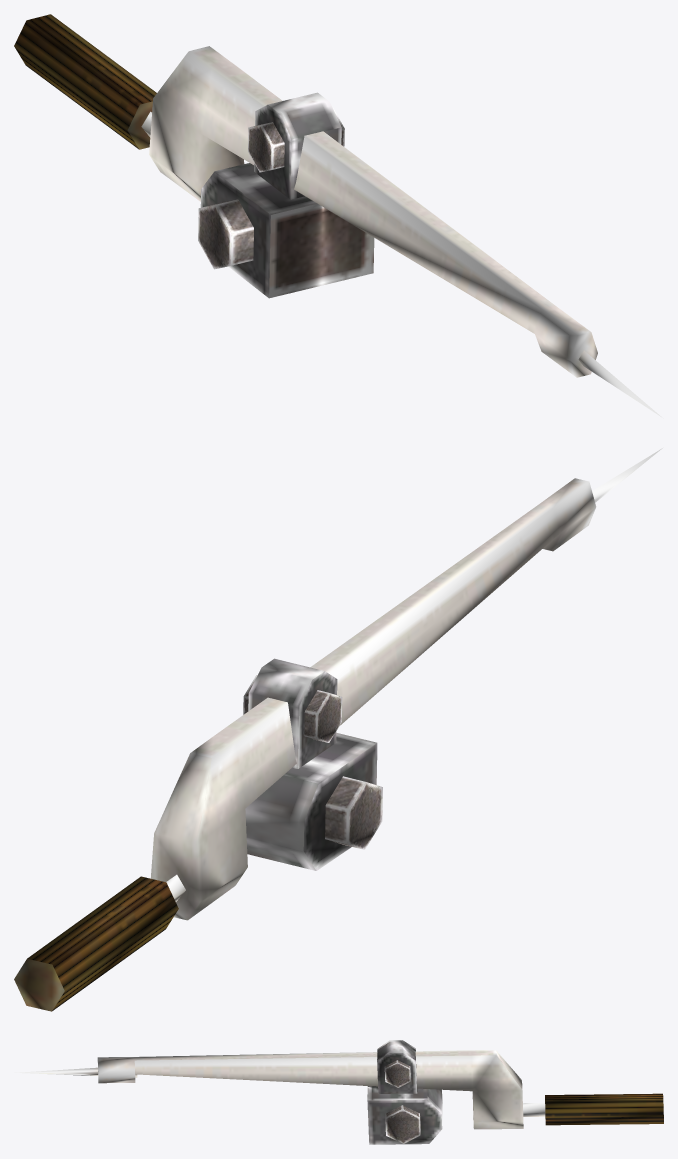
File: Robot01.Head3.fbx
3 views of the same model, one above another, from view 1: azimuth 30°, elevation 25°; view 2: azimuth 150°, elevation 25°; view 3: azimuth 270°, elevation 25° (orthographic). The views are drawn at different scales.
Parts seen in each view (by area): view 1: Robot01.Head3; view 2: Robot01.Head3; view 3: Robot01.Head3.
Part boxes in pixels (box(x1,y1,x2,y2)): Robot01.Head3: box(14, 14, 663, 418); Robot01.Head3: box(14, 448, 662, 1011); Robot01.Head3: box(14, 1040, 663, 1144).
Size of the model in its own units: 29.63 by 31.77 by 218.
